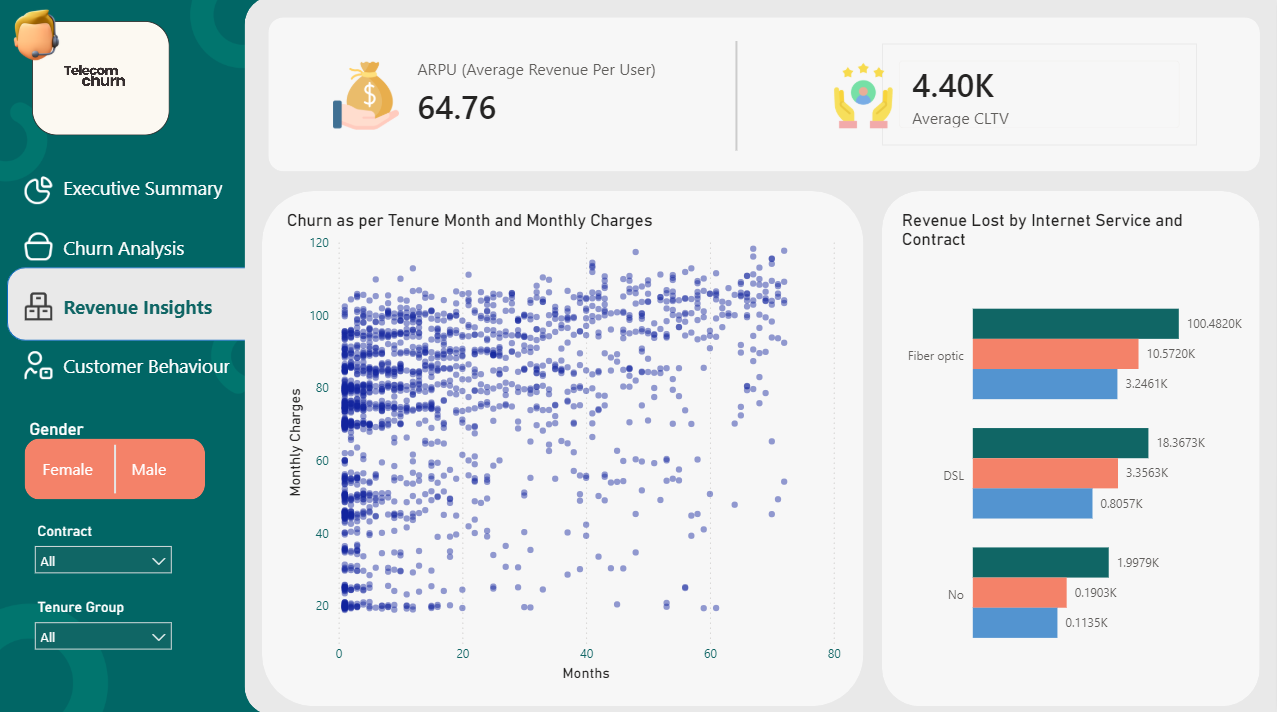

The page's visual inventory and layout, read from the dashboard file:
{"tool":"powerbi","page":{"name":"Revenue Insights","canvas":[1280,720],"ordinal":2},"visuals":[{"type":"cardVisual","fields":{"Data":["_Key_Measure.ARPU (Average Revenue Per User)"]},"box":[390.6,44.4,315.3,102.8],"z":0,"group":"g4"},{"type":"cardVisual","fields":{"Data":["_Key_Measure.Average CLTV"]},"box":[885.1,47.2,315.3,102.8],"z":0,"group":"g5"},{"type":"shape","box":[9.7,270.8,255.6,73.6],"z":0},{"type":"advancedSlicerVisual","title":"Gender","fields":{"Values":["customer_churn_clean.gender"]},"box":[27.8,422.2,180.6,80.6],"z":0,"group":"g7"},{"type":"shape","box":[247.2,0,1033.3,719.4],"z":1000},{"type":"image","box":[829.1,59.4,75,79.2],"z":1000,"group":"g5"},{"type":"image","box":[334.7,61.8,68.1,75],"z":1000,"group":"g4"},{"type":"shape","box":[87.5,448.6,61.1,48.6],"z":1000,"group":"g7"},{"type":"shape","box":[270.8,20.8,991.7,154.2],"z":2000},{"type":"shape","box":[884.7,194.4,377.8,515.3],"z":3000},{"type":"group","id":"g1","title":"Group 5","box":[265.3,194.4,601.4,515.3],"z":4000},{"type":"pageNavigator","box":[66.7,162.5,180.6,237.5],"z":5000},{"type":"image","box":[27.8,173.6,27.8,40.3],"z":6000},{"type":"image","box":[27.8,230.6,27.8,40.3],"z":7000},{"type":"image","box":[27.8,290.3,27.8,40.3],"z":8000},{"type":"shape","box":[265.3,194.4,601.4,515.3],"z":8500,"group":"g3"},{"type":"image","box":[27.8,348.6,27.8,40.3],"z":9000},{"type":"slicer","title":"Contract","fields":{"Values":["customer_churn_clean.contract"]},"box":[27.8,520.8,156.9,59.7],"z":10000},{"type":"group","id":"g2","title":"Group 7","box":[27.8,422.2,180.6,80.6],"z":11000},{"type":"group","id":"g3","title":"Group 6","box":[265.3,194.4,601.4,515.3],"z":11002,"group":"g1"},{"type":"group","id":"g4","title":"Group 1","box":[334.7,44.4,371.2,102.8],"z":12000},{"type":"group","id":"g5","title":"Group 1","box":[829.1,47.2,371.3,102.8],"z":13000},{"type":"shape","box":[694.4,44.4,88.9,109.7],"z":14000},{"type":"scatterChart","title":"Churn as per Tenure Month and Monthly Charges","fields":{"Series":["customer_churn_clean.churn_label"],"Y":["customer_churn_clean.monthly_charges"],"X":["customer_churn_clean.tenure_months"]},"box":[284.7,213.9,563.9,476.4],"z":15000},{"type":"clusteredBarChart","title":"Revenue Lost by Internet Service and Contract","fields":{"Category":["customer_churn_clean.internet_service"],"Series":["customer_churn_clean.contract"],"Y":["_Key_Measure.Lost MRR"]},"box":[900,213.9,350,486.1],"z":16000},{"type":"group","id":"g6","title":"Group 10","box":[0,11.1,172.2,127.8],"z":17000},{"type":"slicer","title":"Contract","fields":{"Values":["customer_churn_clean.tenure_group"]},"box":[27.8,597.2,156.9,93.1],"z":17001},{"type":"image","box":[34.4,24.8,137.8,114.1],"z":18000,"group":"g6"},{"type":"image","box":[0,11.1,76.9,57],"z":19500,"group":"g6"},{"type":"shape","box":[27.8,441.6,180.6,61.1],"z":20000,"group":"g2"},{"type":"group","id":"g7","title":"Group 8","box":[27.8,422.2,180.6,80.6],"z":21003,"group":"g2"}]}

Visuals, with their boxes in screenshot pixels (x1, y1, x2, y2), scaled from the page's 1280x720 canvas onto the 1277x712 screenshot:
cardVisual - _Key_Measure.ARPU (Average Revenue Per User): {"x1": 390, "y1": 44, "x2": 704, "y2": 146}
cardVisual - _Key_Measure.Average CLTV: {"x1": 883, "y1": 47, "x2": 1198, "y2": 148}
shape: {"x1": 10, "y1": 268, "x2": 265, "y2": 341}
"Gender" advancedSlicerVisual: {"x1": 28, "y1": 418, "x2": 208, "y2": 497}
shape: {"x1": 247, "y1": 0, "x2": 1276, "y2": 711}
image: {"x1": 827, "y1": 59, "x2": 902, "y2": 137}
image: {"x1": 334, "y1": 61, "x2": 402, "y2": 135}
shape: {"x1": 87, "y1": 444, "x2": 148, "y2": 492}
shape: {"x1": 270, "y1": 21, "x2": 1260, "y2": 173}
shape: {"x1": 883, "y1": 192, "x2": 1260, "y2": 702}
"Group 5" group: {"x1": 265, "y1": 192, "x2": 865, "y2": 702}
pageNavigator: {"x1": 67, "y1": 161, "x2": 247, "y2": 396}
image: {"x1": 28, "y1": 172, "x2": 55, "y2": 212}
image: {"x1": 28, "y1": 228, "x2": 55, "y2": 268}
image: {"x1": 28, "y1": 287, "x2": 55, "y2": 327}
shape: {"x1": 265, "y1": 192, "x2": 865, "y2": 702}
image: {"x1": 28, "y1": 345, "x2": 55, "y2": 385}
"Contract" slicer: {"x1": 28, "y1": 515, "x2": 184, "y2": 574}
"Group 7" group: {"x1": 28, "y1": 418, "x2": 208, "y2": 497}
"Group 6" group: {"x1": 265, "y1": 192, "x2": 865, "y2": 702}
"Group 1" group: {"x1": 334, "y1": 44, "x2": 704, "y2": 146}
"Group 1" group: {"x1": 827, "y1": 47, "x2": 1198, "y2": 148}
shape: {"x1": 693, "y1": 44, "x2": 781, "y2": 152}
"Churn as per Tenure Month and Monthly Charges" scatterChart: {"x1": 284, "y1": 212, "x2": 847, "y2": 683}
"Revenue Lost by Internet Service and Contract" clusteredBarChart: {"x1": 898, "y1": 212, "x2": 1247, "y2": 692}
"Group 10" group: {"x1": 0, "y1": 11, "x2": 172, "y2": 137}
"Contract" slicer: {"x1": 28, "y1": 591, "x2": 184, "y2": 683}
image: {"x1": 34, "y1": 25, "x2": 172, "y2": 137}
image: {"x1": 0, "y1": 11, "x2": 77, "y2": 67}
shape: {"x1": 28, "y1": 437, "x2": 208, "y2": 497}
"Group 8" group: {"x1": 28, "y1": 418, "x2": 208, "y2": 497}
